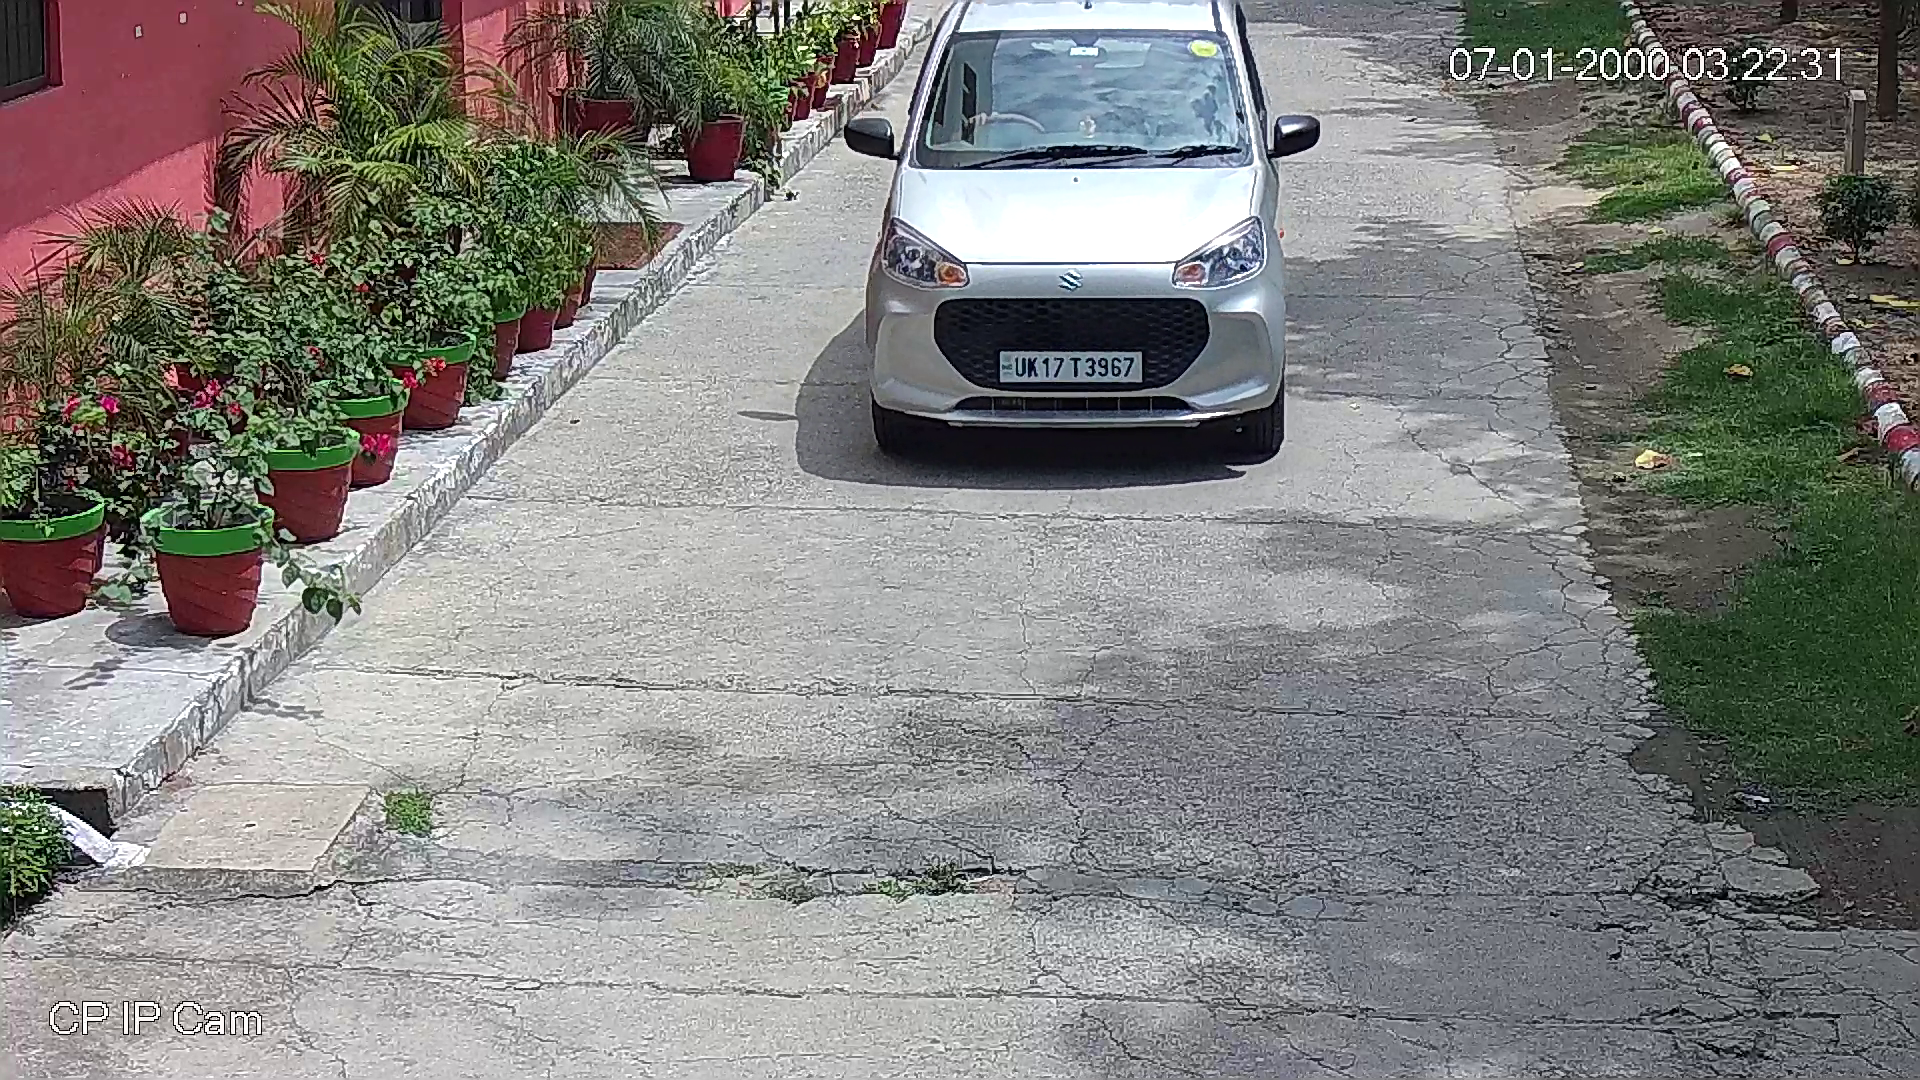plate: (1001, 350, 1141, 384)
